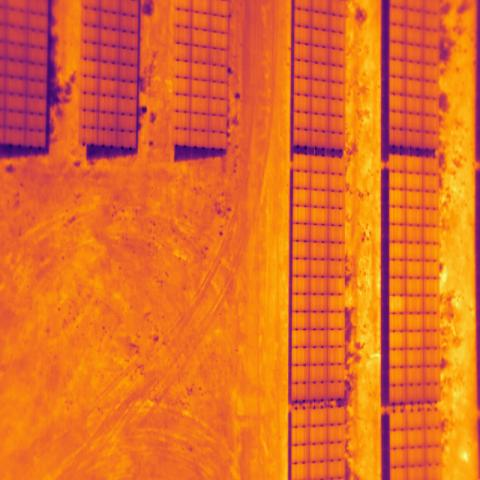fault: (388, 294, 407, 314)
